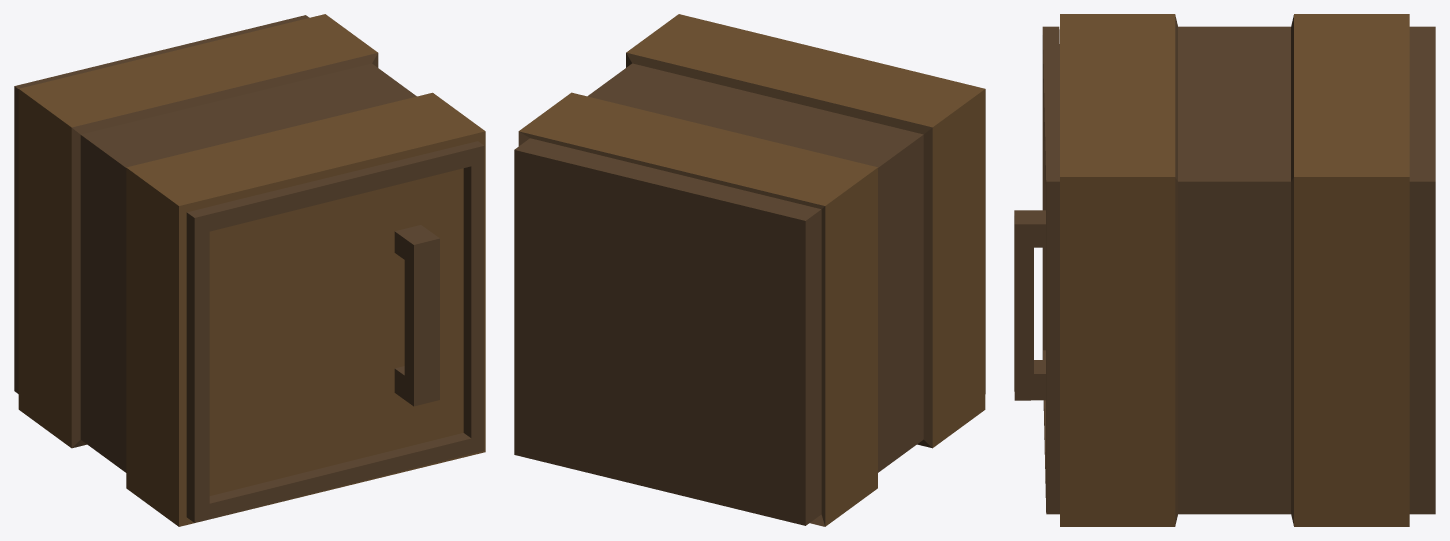
File: Armario 1.fbx
3 views of the same model, side by side, from view 1: azimuth 30°, elevation 25°; view 2: azimuth 150°, elevation 25°; view 3: azimuth 270°, elevation 25° (orthographic). The views are drawn at different scales.
Visible parts, largest first — view 1: armario1.001, porta armario.001; view 2: armario1.001; view 3: armario1.001, porta armario.001.
Boxes of the visible parts, box(x1,y1,x2,y2) form: armario1.001: box(14, 14, 485, 526); porta armario.001: box(186, 141, 484, 522); armario1.001: box(514, 14, 985, 526); armario1.001: box(1060, 14, 1435, 526); porta armario.001: box(1014, 26, 1059, 514).
Size of the model in its own units: 513 by 513 by 560.
